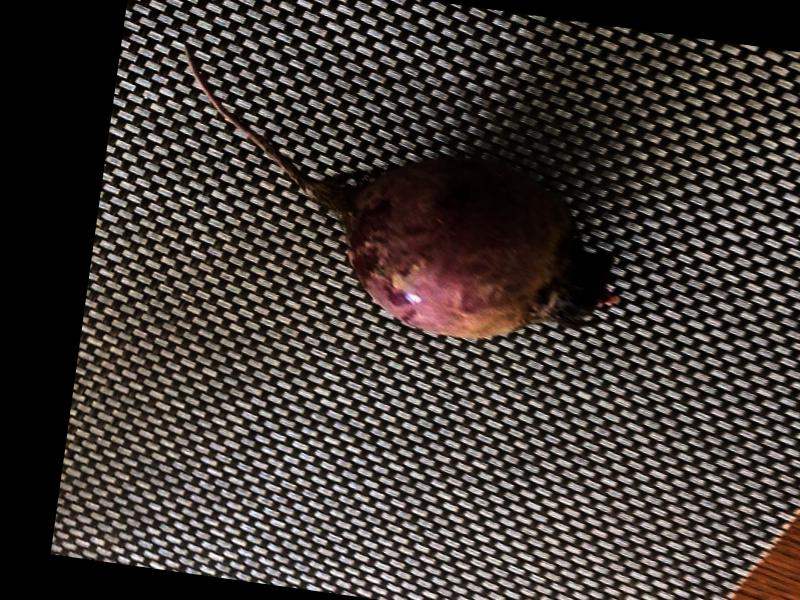Beet: (147, 43, 646, 357)
